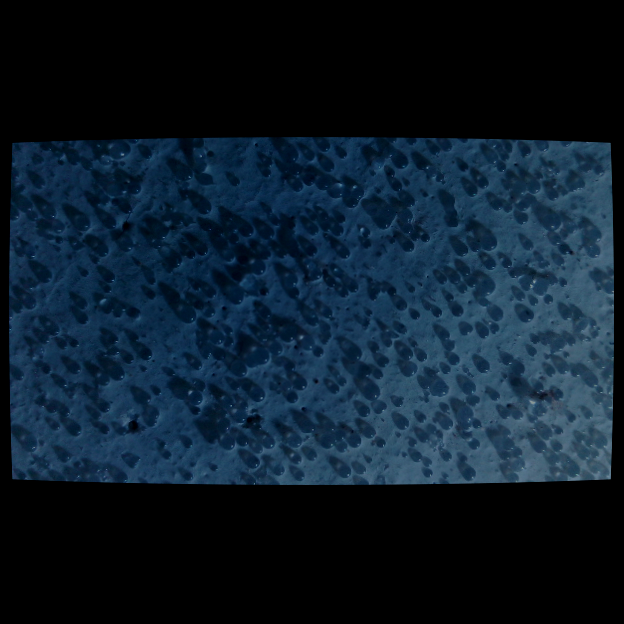GrassBeadSeg: (82, 159, 601, 480), (11, 169, 522, 456), (109, 142, 598, 437), (142, 164, 599, 448), (17, 150, 471, 431), (73, 228, 606, 467), (89, 143, 539, 423), (52, 221, 549, 452), (178, 166, 560, 465), (48, 256, 564, 477), (24, 135, 398, 437), (122, 180, 511, 460), (127, 200, 529, 467), (161, 179, 543, 459), (38, 275, 580, 470), (63, 157, 482, 409), (98, 189, 560, 412), (60, 265, 520, 482), (17, 169, 577, 346), (58, 281, 595, 458), (211, 200, 570, 464), (176, 169, 525, 420), (137, 243, 535, 463), (67, 216, 380, 470), (99, 217, 457, 433), (238, 219, 564, 449), (66, 243, 471, 428), (57, 173, 314, 458), (77, 298, 541, 451), (134, 246, 480, 450), (74, 148, 349, 403), (148, 289, 510, 478), (119, 202, 388, 448), (91, 312, 563, 452), (205, 310, 584, 483), (348, 164, 605, 419), (67, 243, 404, 436), (166, 179, 493, 376), (136, 254, 430, 465), (11, 151, 282, 379), (198, 198, 521, 384), (138, 151, 497, 316), (300, 179, 532, 433), (25, 185, 488, 307), (128, 180, 346, 438), (177, 227, 502, 400), (125, 307, 517, 450), (14, 303, 363, 461), (287, 186, 478, 470), (33, 181, 569, 277), (220, 281, 548, 437), (37, 268, 471, 385), (409, 211, 605, 460), (146, 276, 519, 405), (128, 189, 563, 299), (24, 181, 392, 310), (32, 183, 304, 353), (115, 386, 581, 483), (77, 290, 377, 438), (307, 222, 477, 480), (319, 140, 453, 462), (324, 136, 471, 428), (95, 244, 418, 376), (103, 142, 405, 283), (102, 215, 410, 351), (184, 299, 409, 480), (55, 268, 322, 418), (299, 241, 478, 460), (212, 150, 347, 440), (181, 213, 346, 448), (23, 320, 317, 451), (68, 390, 526, 471), (422, 168, 546, 467), (272, 333, 520, 478), (10, 140, 446, 221), (161, 356, 505, 454), (346, 281, 590, 419), (214, 348, 553, 446), (125, 149, 247, 421), (292, 163, 558, 286), (109, 336, 353, 465), (280, 184, 475, 341), (38, 268, 268, 401), (47, 307, 332, 413), (394, 154, 505, 419), (188, 216, 372, 369), (69, 274, 285, 404), (218, 328, 450, 449), (336, 250, 572, 366), (47, 278, 567, 330), (210, 216, 316, 471), (230, 273, 462, 389), (117, 310, 323, 436), (42, 369, 362, 447), (36, 336, 412, 399), (79, 223, 407, 293), (477, 281, 608, 447), (459, 233, 563, 440), (210, 243, 369, 371), (463, 345, 609, 477), (236, 410, 594, 462), (166, 238, 336, 343), (397, 209, 472, 440), (29, 287, 265, 359), (399, 223, 515, 365), (13, 307, 160, 417), (371, 257, 497, 382), (109, 365, 262, 467), (288, 291, 368, 474), (41, 216, 136, 369), (411, 278, 494, 446), (289, 144, 440, 236), (34, 399, 250, 462), (256, 232, 363, 359), (194, 249, 289, 391), (96, 148, 153, 381), (307, 315, 525, 375), (417, 278, 554, 372), (302, 368, 439, 461), (66, 140, 115, 399), (261, 237, 518, 285), (442, 180, 520, 335), (217, 421, 434, 476), (95, 409, 277, 474), (99, 291, 216, 386), (103, 156, 237, 235), (57, 183, 206, 251), (480, 177, 607, 253), (229, 265, 472, 304), (323, 339, 419, 430), (102, 333, 252, 389), (121, 147, 330, 187), (528, 335, 611, 434), (93, 249, 198, 323), (250, 260, 309, 390), (222, 395, 445, 429), (93, 231, 162, 339), (23, 284, 60, 477), (188, 406, 483, 429), (401, 195, 534, 246), (261, 279, 372, 340), (256, 370, 369, 428), (383, 136, 531, 180), (540, 260, 613, 343), (21, 143, 81, 239), (396, 348, 446, 451), (469, 322, 524, 413), (499, 138, 593, 189), (337, 416, 411, 477), (478, 180, 583, 222), (305, 149, 376, 206), (476, 307, 536, 374), (109, 273, 300, 292), (224, 222, 314, 260), (281, 147, 300, 326), (556, 413, 609, 475), (393, 368, 435, 446), (320, 308, 407, 344), (407, 232, 442, 315), (544, 341, 599, 387), (397, 239, 416, 360), (330, 375, 386, 416), (357, 227, 372, 377), (538, 228, 601, 263), (273, 390, 298, 475), (440, 140, 507, 171), (336, 282, 407, 311), (158, 230, 227, 256), (362, 380, 447, 401), (571, 325, 606, 376), (208, 332, 248, 376), (20, 460, 107, 480), (459, 359, 488, 393), (71, 334, 117, 347), (249, 344, 275, 365), (460, 284, 462, 285)
